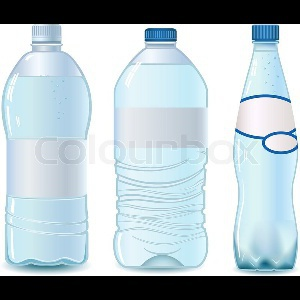emptybottle: (114, 27, 208, 271), (1, 22, 91, 269), (233, 18, 298, 272)
